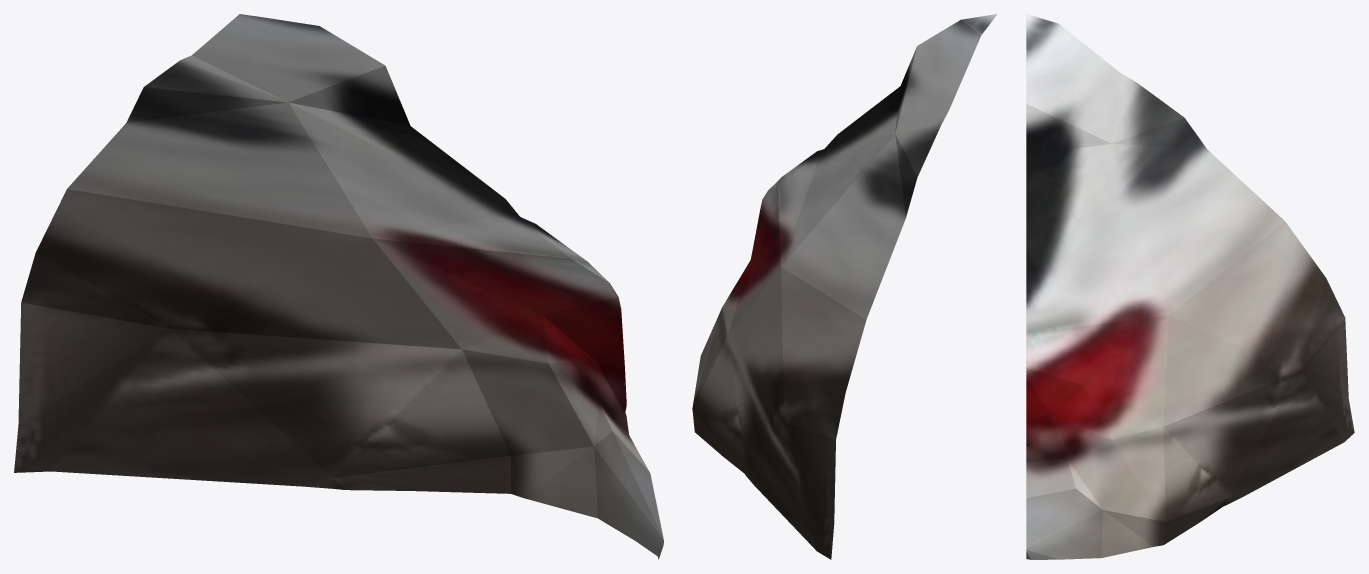
3 renders of one model, left to right at view 1: azimuth 30°, elevation 25°; view 2: azimuth 150°, elevation 25°; view 3: azimuth 270°, elevation 25°, orthographic. The views are drawn at different scales.
Bounding box in the file's own units: 0.6027 × 0.9206 × 0.6541.
1 material, 1 textured.
